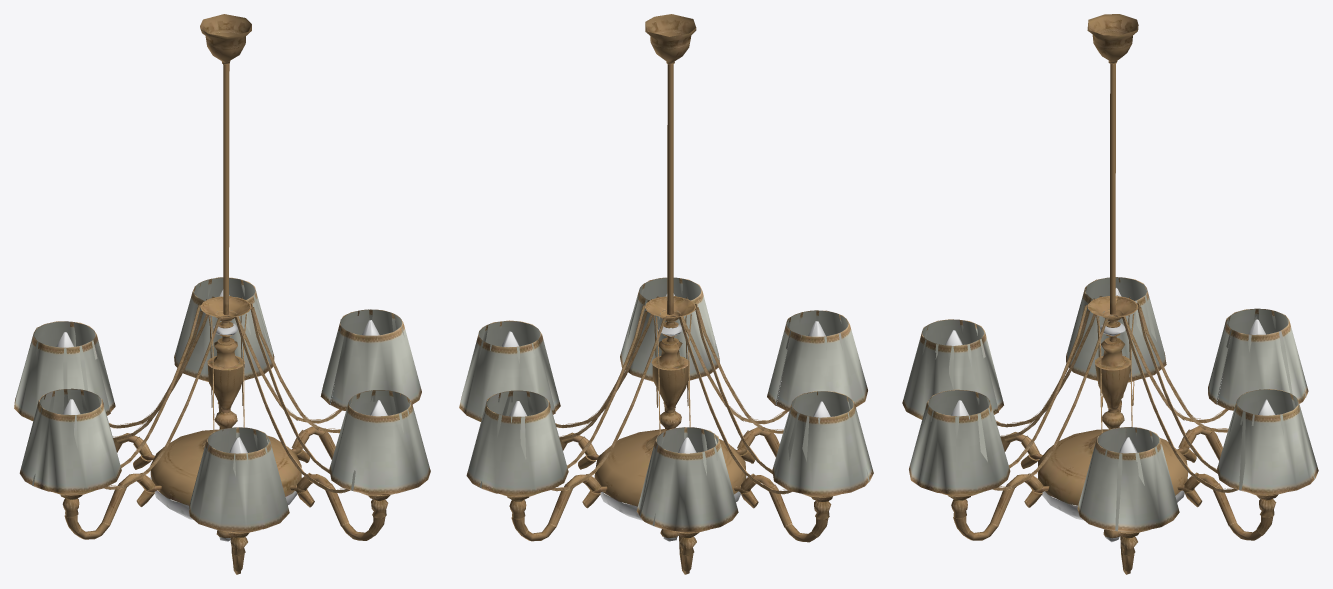
File: Chandelier_02.glb
3 views of the same model, side by side, from view 1: azimuth 30°, elevation 25°; view 2: azimuth 150°, elevation 25°; view 3: azimuth 270°, elevation 25° (orthographic).
Parts seen in each view (by area): view 1: Chandelier_02; view 2: Chandelier_02; view 3: Chandelier_02.
Part boxes in pixels (x1=…): Chandelier_02: x1=14, y1=14, x2=430, y2=574; Chandelier_02: x1=459, y1=14, x2=873, y2=574; Chandelier_02: x1=902, y1=14, x2=1318, y2=574.
Size of the model in its own units: 0.6787 by 0.8488 by 0.6199.
2 materials, 1 textured.
